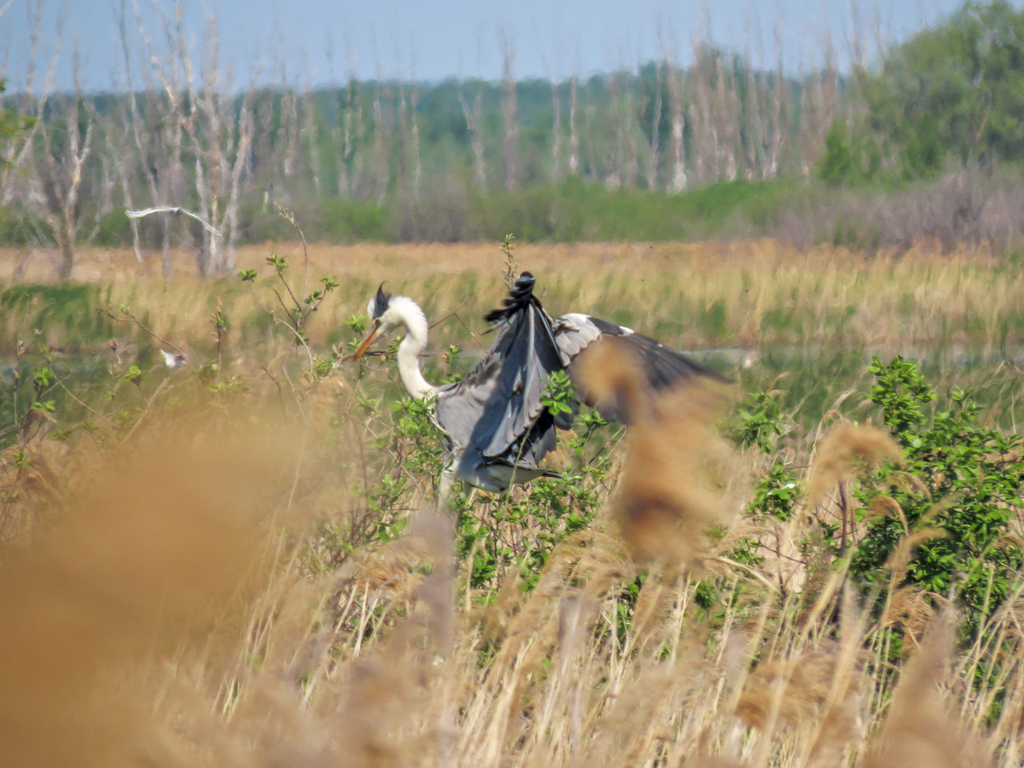heron: (354, 272, 737, 573)
